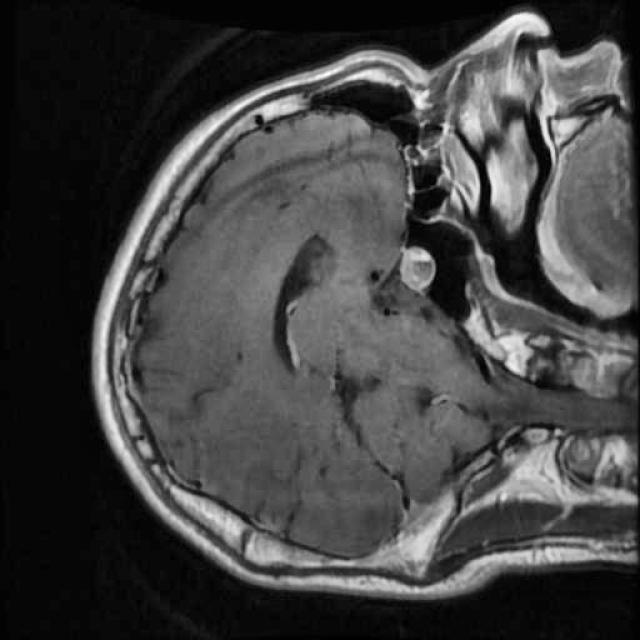Tumor: (389, 239, 444, 304)
